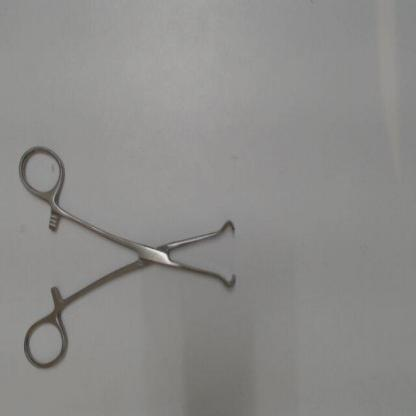Babcock Tissue Forceps: (16, 139, 241, 374)
